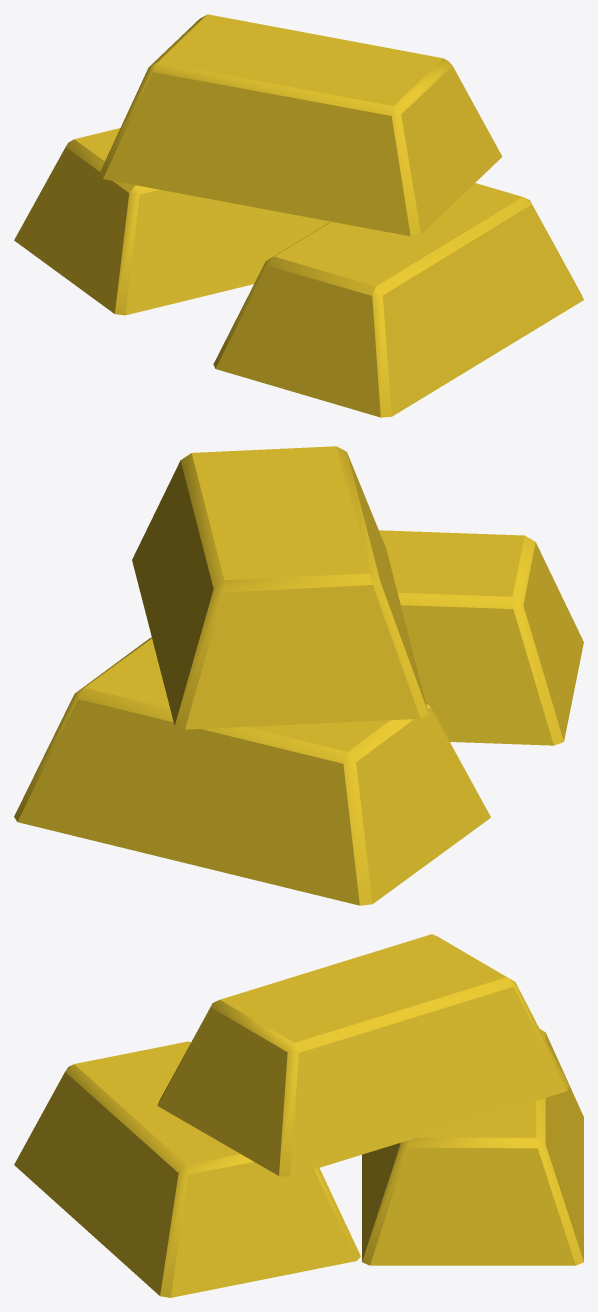
The model's file is gold2.fbx.
The picture shows the model from 3 angles, top to bottom: view 1: azimuth 30°, elevation 25°; view 2: azimuth 150°, elevation 25°; view 3: azimuth 270°, elevation 25°; orthographic projection. The views are drawn at different scales.
Visible parts, largest first — view 1: pCube3, pCube2, pCube1; view 2: pCube1, pCube3, pCube2; view 3: pCube3, pCube2, pCube1.
Part boxes in pixels (x1,y1,x2,y2): pCube3: (99,14,502,236); pCube2: (213,183,583,417); pCube1: (14,128,330,315); pCube1: (14,637,490,905); pCube3: (132,446,428,729); pCube2: (379,530,583,745); pCube3: (157,934,568,1176); pCube2: (14,1041,360,1297); pCube1: (362,1029,583,1265).
Size of the model in its own units: 43.4 by 23.76 by 56.77.
